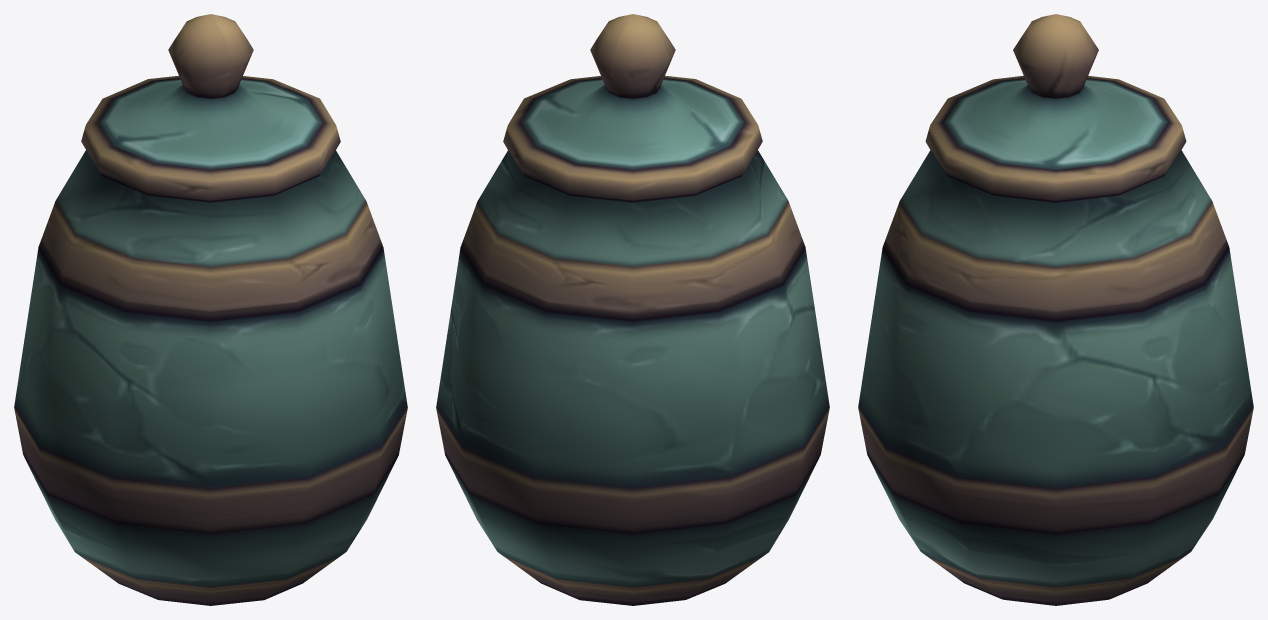
The model's file is urn_02.fbx.
3 renders of one model, left to right at view 1: azimuth 30°, elevation 25°; view 2: azimuth 150°, elevation 25°; view 3: azimuth 270°, elevation 25°, orthographic.
Parts seen in each view (by area): view 1: urn_02; view 2: urn_02; view 3: urn_02.
Boxes of the visible parts, <box> form: urn_02: <box>14,14,407,605</box>; urn_02: <box>436,14,829,605</box>; urn_02: <box>858,14,1253,605</box>.
Bounding box in the file's own units: 10.94 × 16.69 × 10.94.
